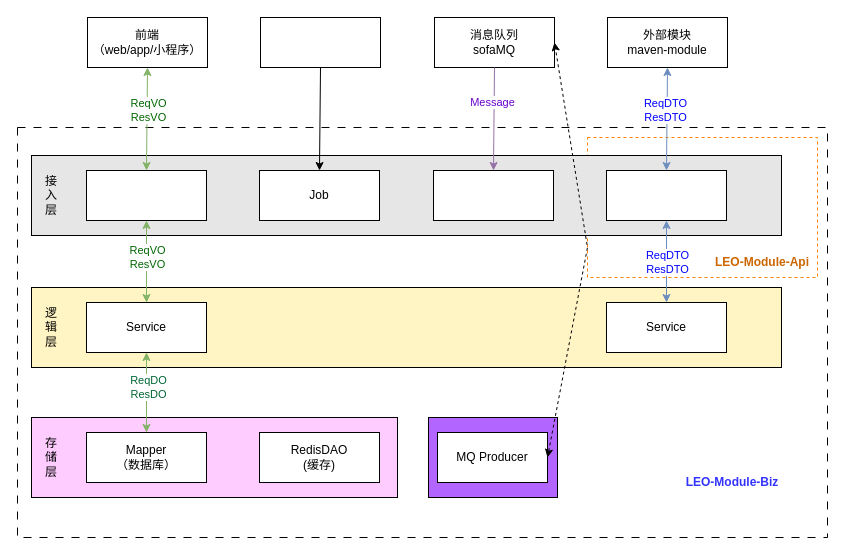
The diagram is 845 pixels wide and 555 high, and some of its shapes have lost their labels. The centre of each missing label's shape, as x and y in pixels:
"API" goes at point (666, 195).
"Controller" goes at point (146, 195).
"MQ Consumer" goes at point (493, 195).
"定时任务 xxl-job" goes at point (320, 42).
